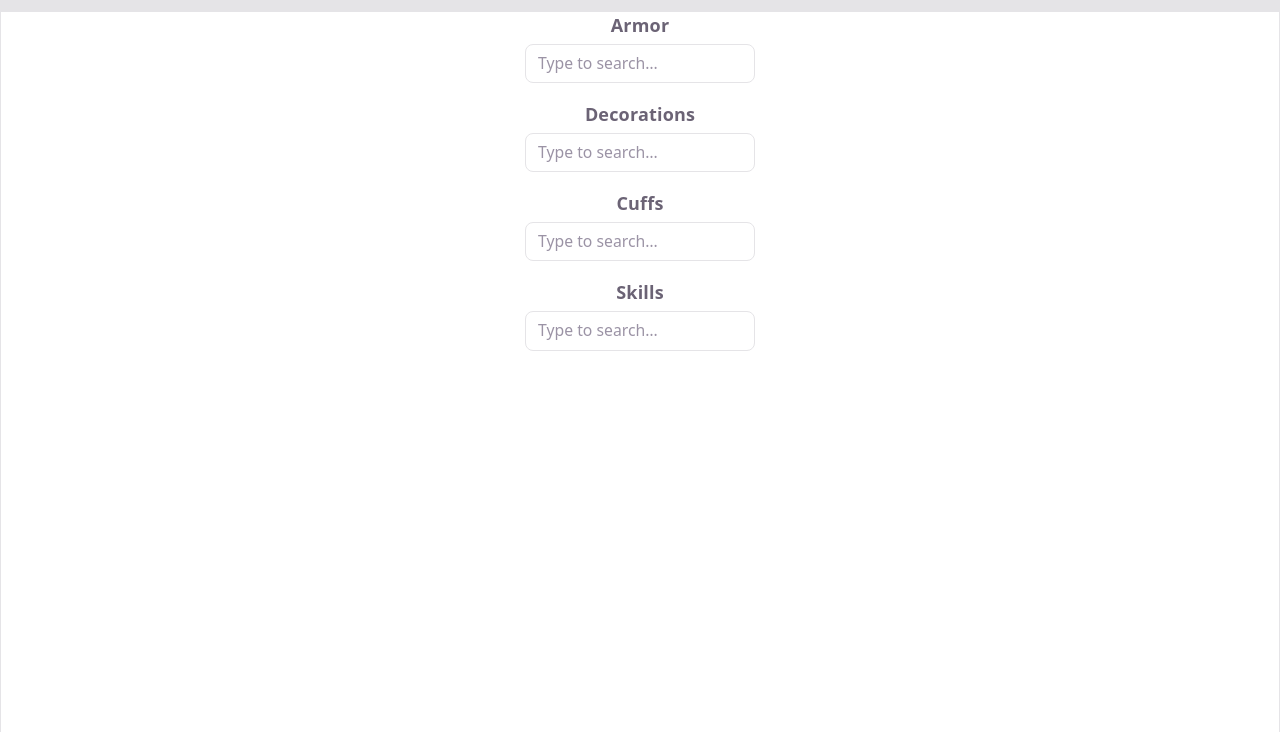
Scenario: EquipmentExclusionPicker › matches a skill in the Skills list by its own tier label, not just its name
In the field named "Search skills to exclude": (640, 331) [525, 311, 755, 350], type "sharpening artisan"
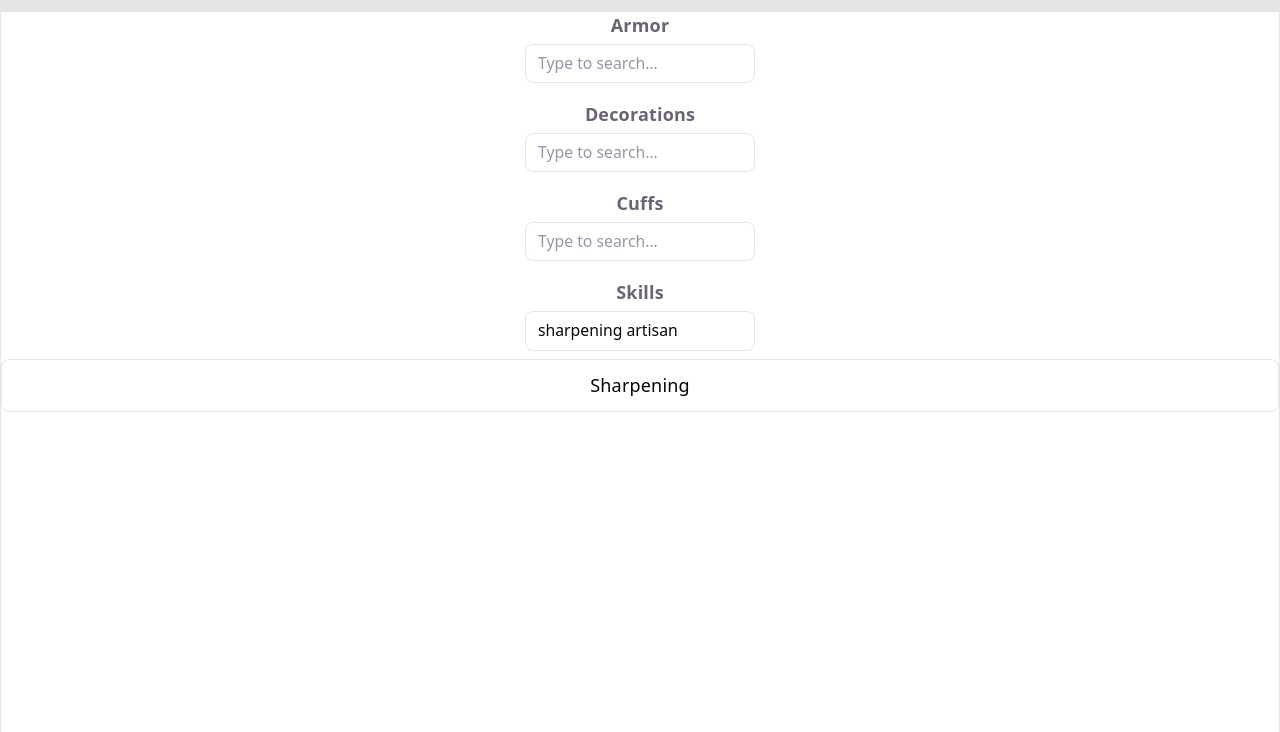
Now the option "Sharpening" is shown, box [590, 372, 690, 396]
